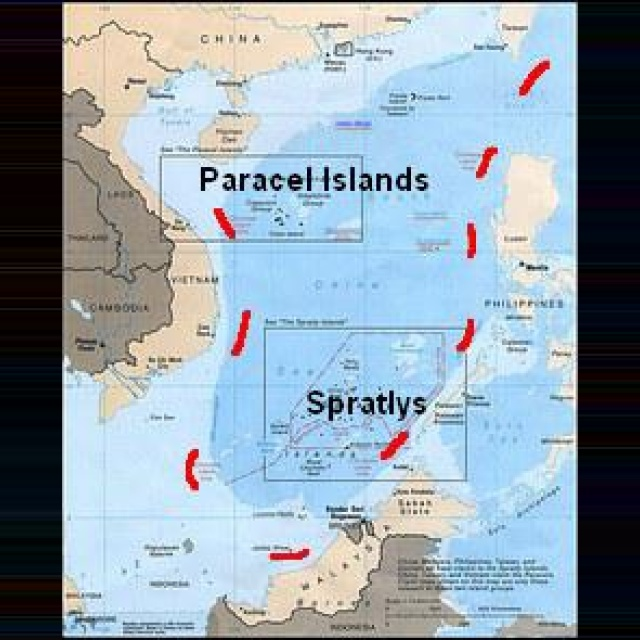Nine Dash Line: (172, 23, 618, 567)
